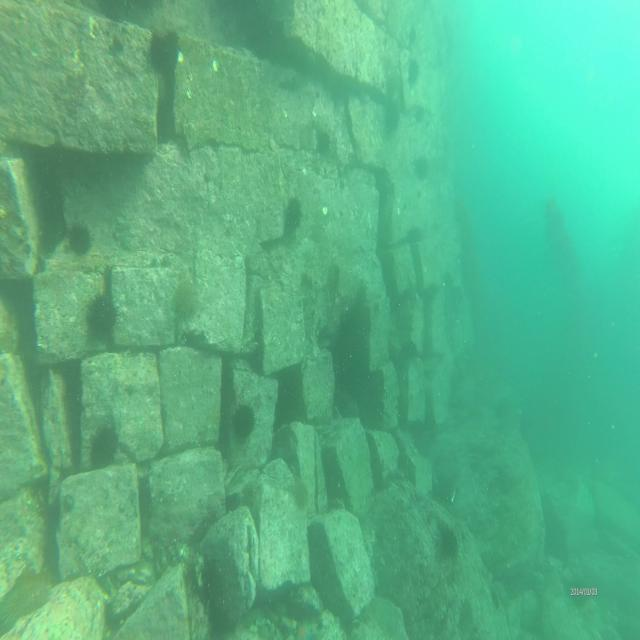echinus: (84, 290, 120, 338), (88, 424, 122, 468), (61, 217, 96, 256), (170, 275, 200, 320), (232, 398, 259, 443), (283, 192, 305, 235)
